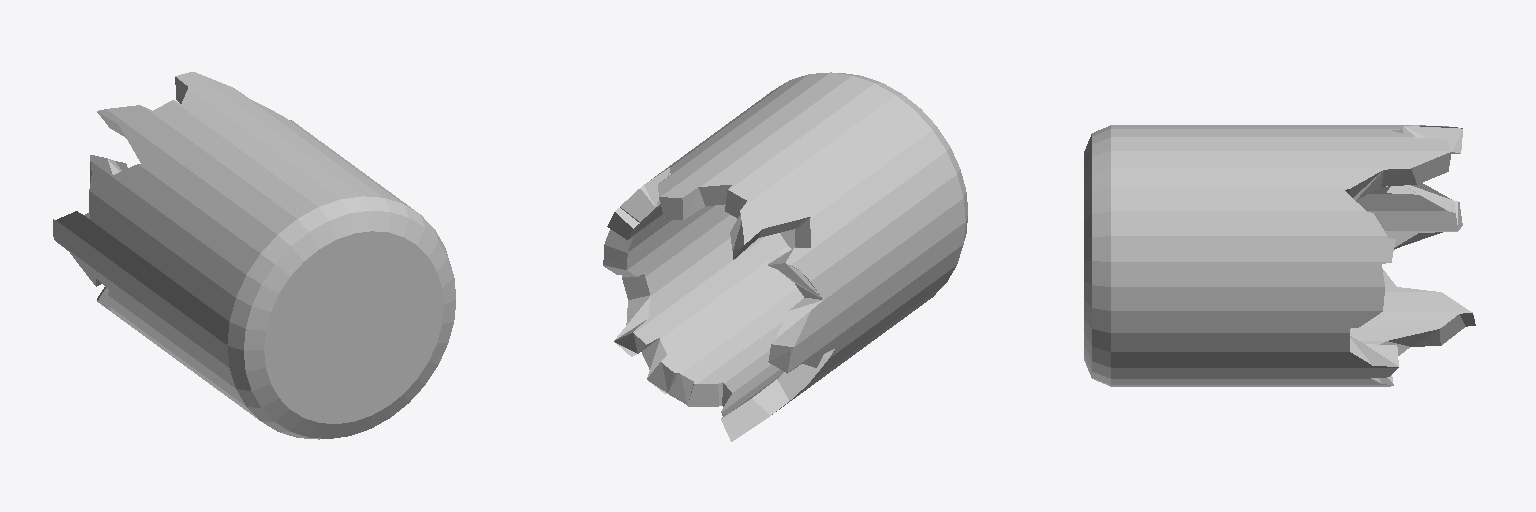
The model's file is Bottle2.obj.
3 views of the same model, side by side, from view 1: azimuth 30°, elevation 25°; view 2: azimuth 150°, elevation 25°; view 3: azimuth 270°, elevation 25° (orthographic).
Parts seen in each view (by area): view 1: Bottle2; view 2: Bottle2; view 3: Bottle2.
Part boxes in pixels (bbox=[...]): Bottle2: bbox=[53, 72, 455, 439]; Bottle2: bbox=[603, 72, 967, 441]; Bottle2: bbox=[1084, 125, 1475, 386].
Size of the model in its own units: 2 by 2 by 3.